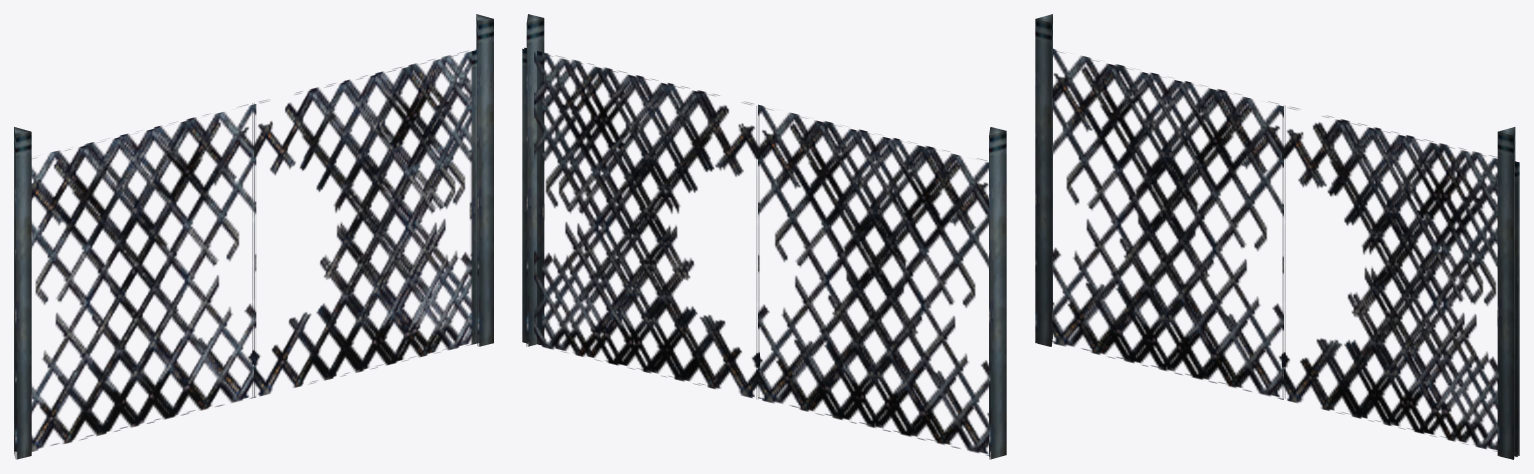
The model's file is Environment - Prop - Chain Link Fence 01 - Damaged - PMWallChn1_D.glb.
3 renders of one model, left to right at view 1: azimuth 30°, elevation 25°; view 2: azimuth 150°, elevation 25°; view 3: azimuth 330°, elevation 25°, orthographic.
Parts seen in each view (by area): view 1: PMWALLCHN1_D; view 2: PMWALLCHN1_D; view 3: PMWALLCHN1_D.
Boxes of the visible parts, bbox=[...] form: PMWALLCHN1_D: bbox=[14, 14, 493, 459]; PMWALLCHN1_D: bbox=[522, 14, 1006, 459]; PMWALLCHN1_D: bbox=[1035, 14, 1519, 459].
Bounding box in the file's own units: 28.35 × 18.36 × 0.9621.
Materials: 1 (1 with a texture image).
